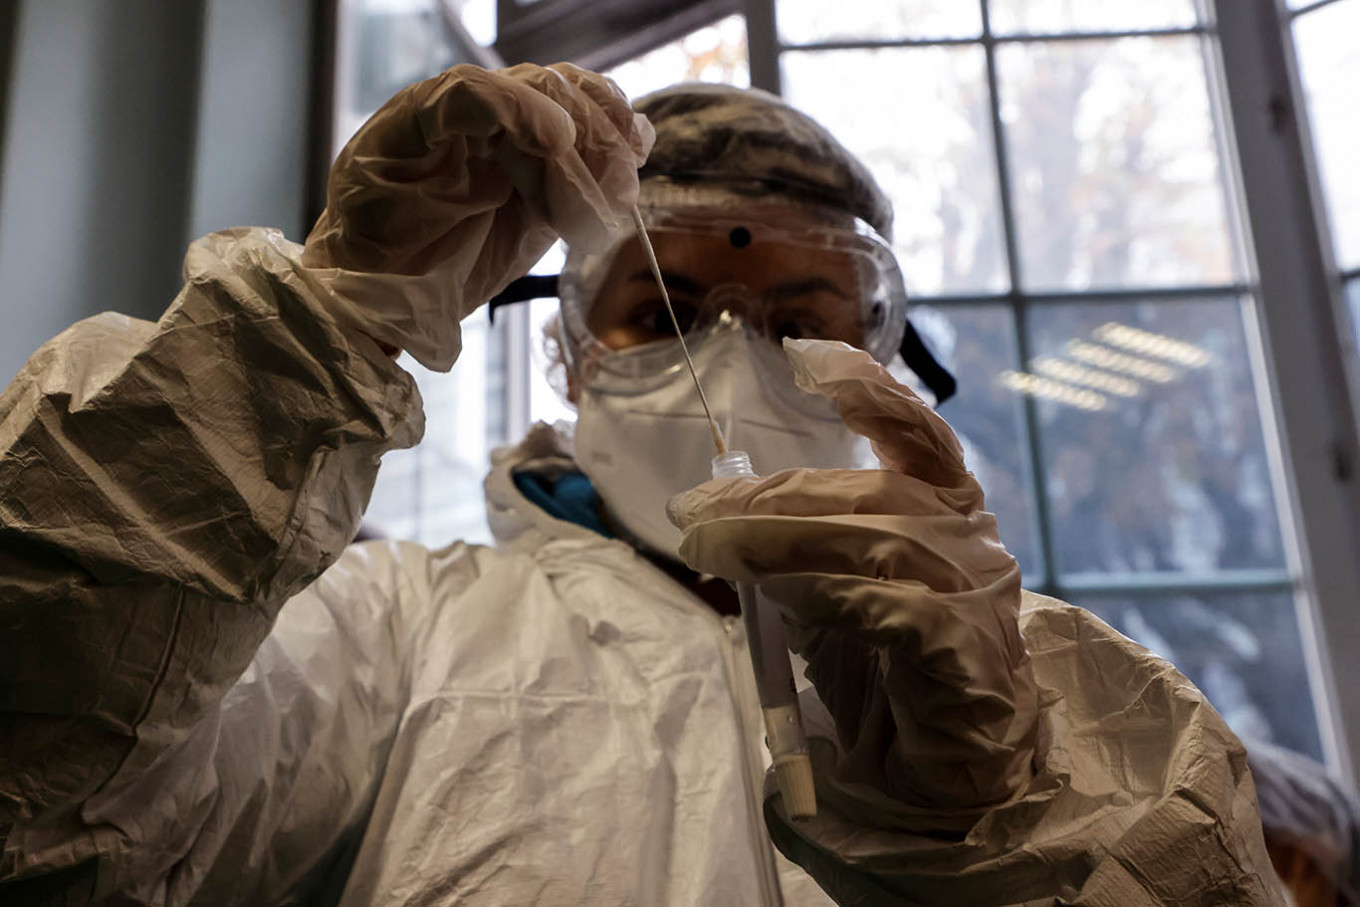Gloves: (669, 335, 1041, 813), (307, 46, 663, 350)
Goggles: (551, 188, 929, 410)
with_mask: (593, 285, 865, 587)
